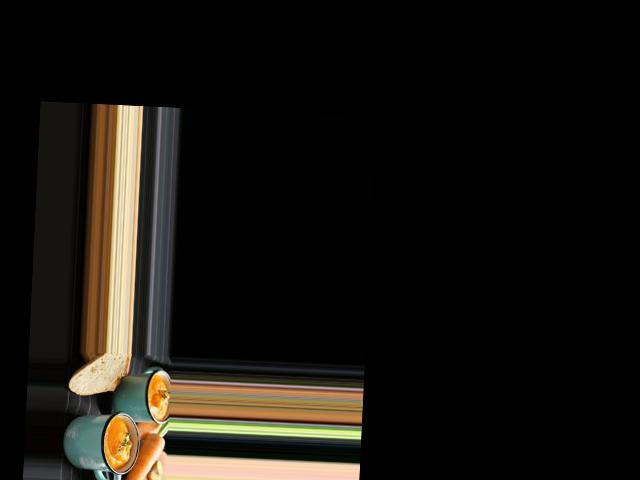carrot: (108, 428, 167, 480)
